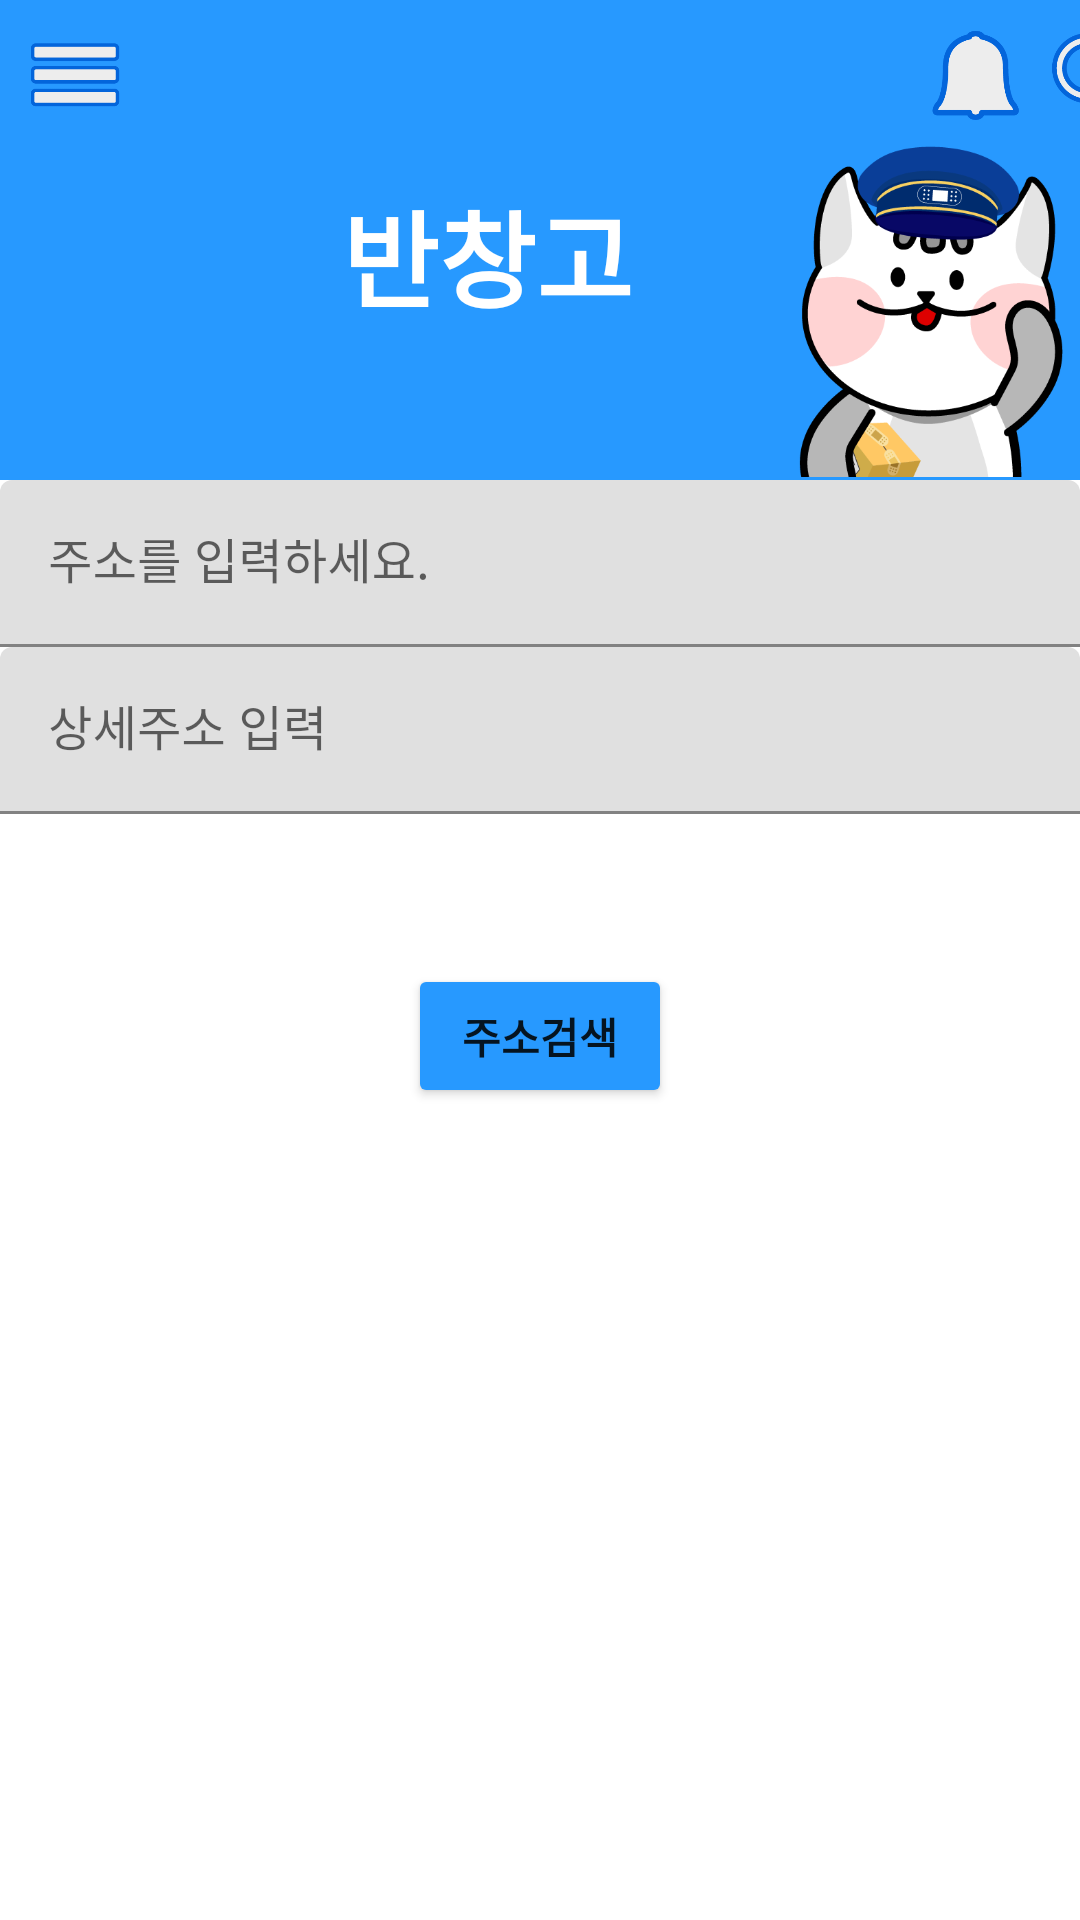

Icons on this 1080px×1920px Android screen, each with the point to tap as (x=x, y=y):
bell: (x=975, y=75)
menu: (x=75, y=74)
